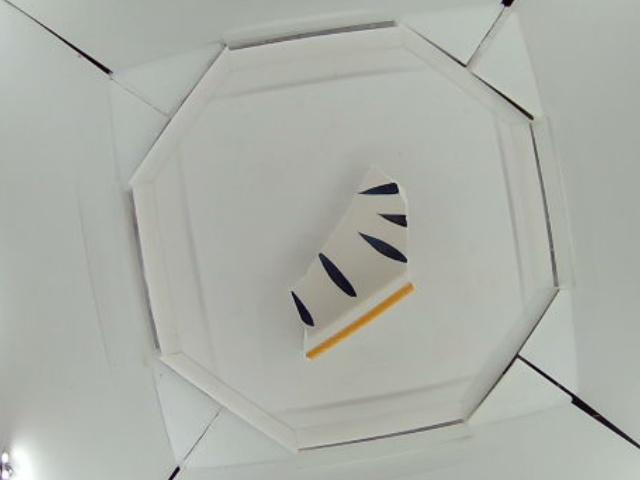China: (286, 159, 417, 354)
